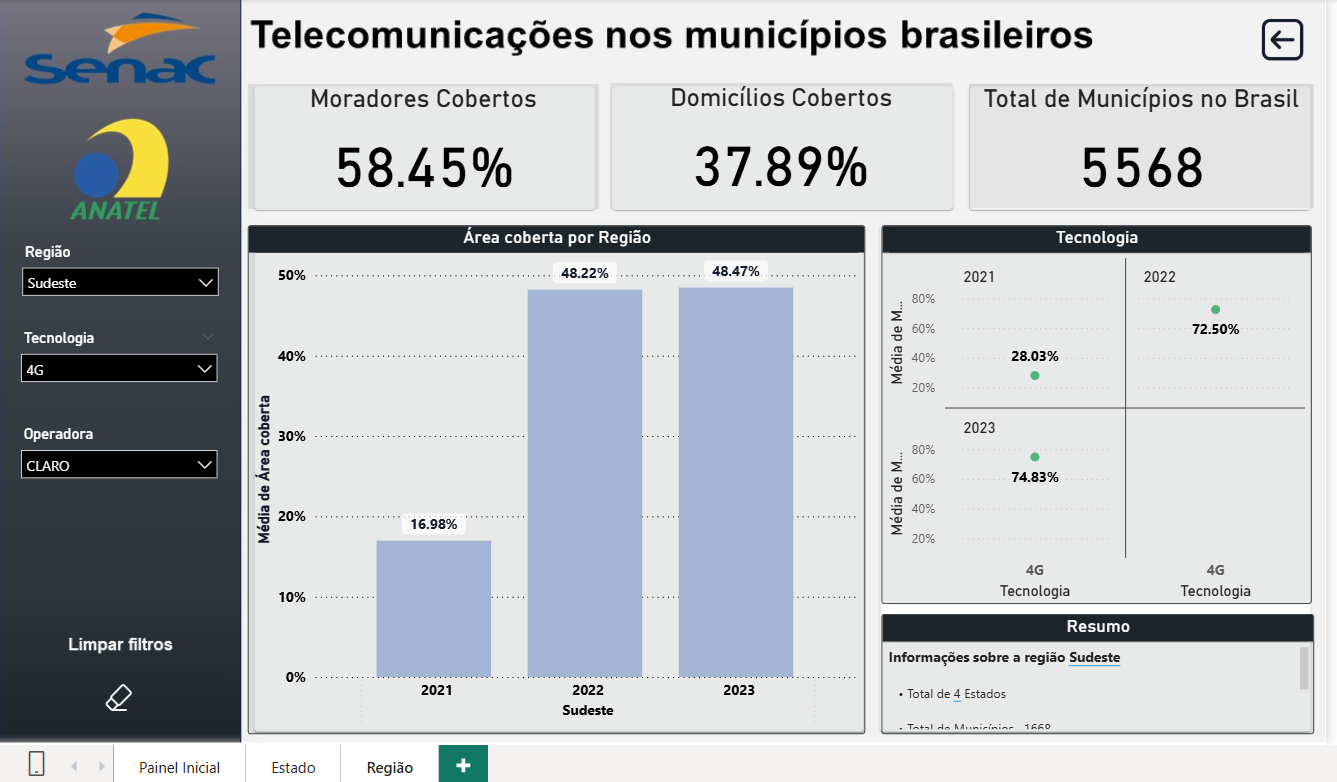

Layout of this report page (visuals, bound fields, positions):
{"tool":"powerbi","page":{"name":"Região","canvas":[1280,720],"ordinal":2},"visuals":[{"type":"slicer","fields":{"Values":["Região.Região"]},"box":[11.7,230,210,91.7],"z":0},{"type":"card","title":"Moradores Cobertos","fields":{"Values":["Avg(Fato.Moradores cobertos)"]},"box":[240,82,338.9,120.6],"z":1000},{"type":"card","title":"Domicílios Cobertos","fields":{"Values":["Avg(Fato.% Área coberta)"]},"box":[590,81.2,330,121.2],"z":2000},{"type":"card","title":"Total de Municípios no Brasil","fields":{"Values":["Median(Fato.TotalMunicipios)"]},"box":[936.2,82.5,332.5,120],"z":3000},{"type":"lineStackedColumnComboChart","title":"Área coberta por Região","fields":{"Category":["Região.Região","Calendario.Date.Variation.Hierarquia de datas.Ano"],"Y":["Avg(Fato.% Área coberta)"]},"box":[240,218.3,595.8,490.9],"z":4000},{"type":"image","box":[31.7,655,168.3,38.3],"z":5000},{"type":"image","box":[1210,15,58.3,50],"z":6000},{"type":"slicer","fields":{"Values":["Tecnologia.Tecnologia"]},"box":[11.2,313.8,210,92.5],"z":7000},{"type":"textbox","title":"Resumo","box":[851.5,593.4,417.3,115.8],"z":8000},{"type":"areaChart","title":"Tecnologia","fields":{"Y":["Avg(Fato.Moradores cobertos)"],"Category":["Tecnologia.Tecnologia"],"Rows":["Calendario.Date.Variation.Hierarquia de datas.Ano"]},"box":[851.5,218.3,414.9,365.4],"z":9000},{"type":"slicer","fields":{"Values":["Operadora.Operadora"]},"box":[11.2,406.2,210,92.5],"z":10000}]}

Visuals, with their boxes on the page's 1280x720 design canvas (x1, y1, x2, y2). These are canvas units, not pixel positions in the 1337x782 screenshot, which may show the page scaled, cropped or inside an application window:
slicer - Região.Região: x1=12 y1=230 x2=222 y2=322
"Moradores Cobertos" card: x1=240 y1=82 x2=579 y2=203
"Domicílios Cobertos" card: x1=590 y1=81 x2=920 y2=202
"Total de Municípios no Brasil" card: x1=936 y1=82 x2=1269 y2=202
"Área coberta por Região" lineStackedColumnComboChart: x1=240 y1=218 x2=836 y2=709
image: x1=32 y1=655 x2=200 y2=693
image: x1=1210 y1=15 x2=1268 y2=65
slicer - Tecnologia.Tecnologia: x1=11 y1=314 x2=221 y2=406
"Resumo" textbox: x1=852 y1=593 x2=1269 y2=709
"Tecnologia" areaChart: x1=852 y1=218 x2=1266 y2=584
slicer - Operadora.Operadora: x1=11 y1=406 x2=221 y2=499
